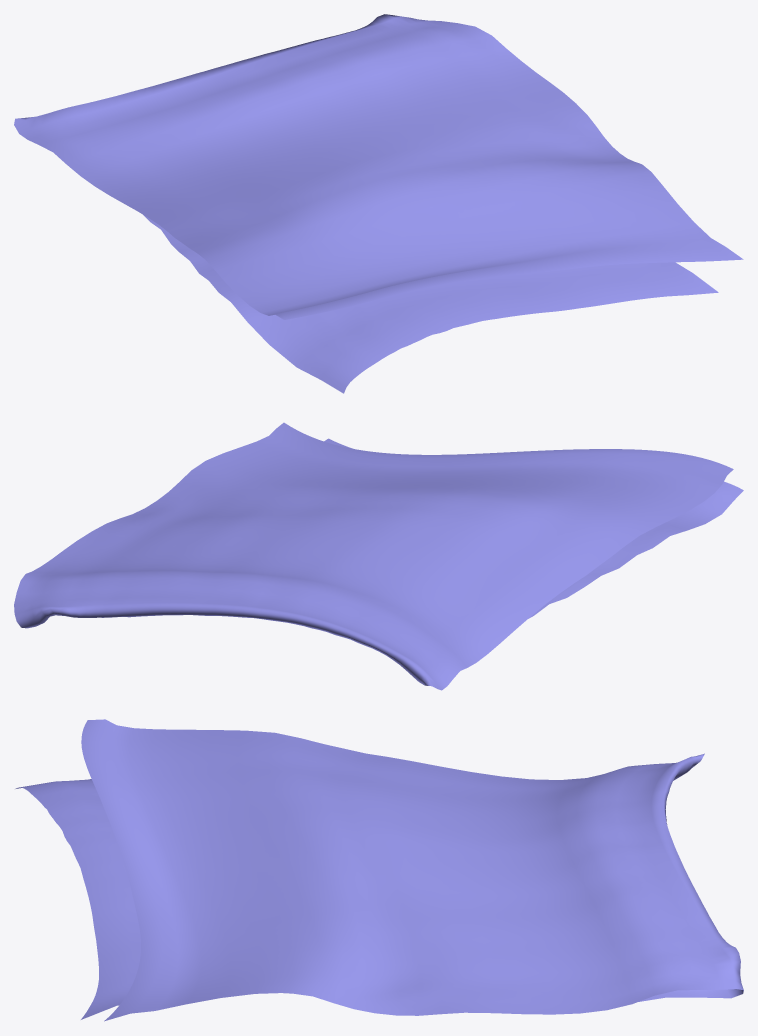
File: TowelOnFloor001.FBX
3 views of the same model, one above another, from view 1: azimuth 30°, elevation 25°; view 2: azimuth 150°, elevation 25°; view 3: azimuth 270°, elevation 25° (orthographic). The views are drawn at different scales.
Visible parts, largest first — view 1: TowelOnFloor001; view 2: TowelOnFloor001; view 3: TowelOnFloor001.
Boxes of the visible parts, x1,y1,x2,y2 form: TowelOnFloor001: (14,14,743,393); TowelOnFloor001: (14,422,743,690); TowelOnFloor001: (15,719,743,1021).
Size of the model in its own units: 44.1 by 6.85 by 54.34.
